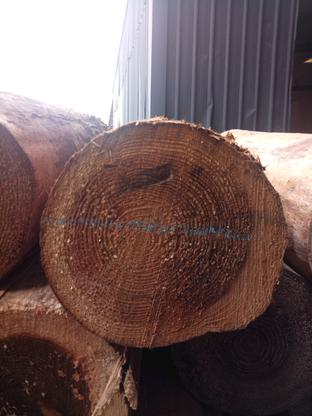mood: (38, 121, 288, 348)
